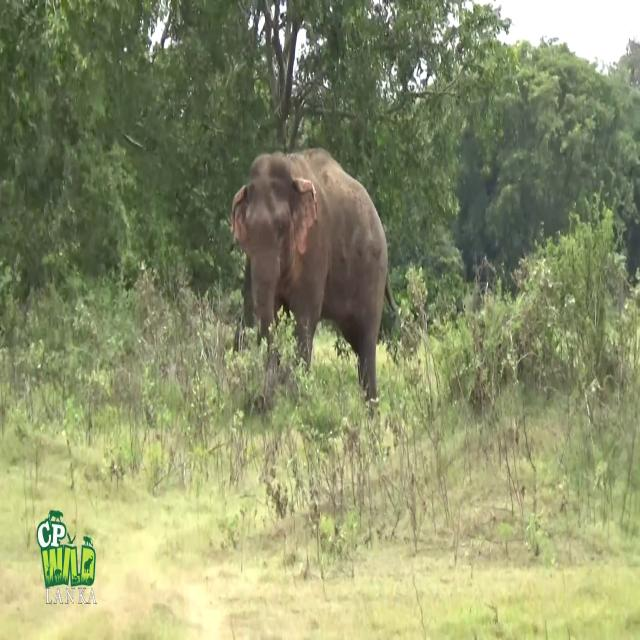Elephant: (230, 146, 402, 420)
